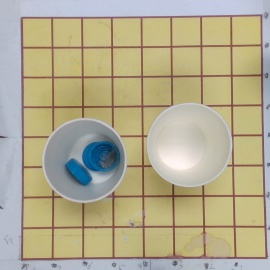cup: (148, 102, 232, 189)
cup_blue: (42, 117, 128, 205)
